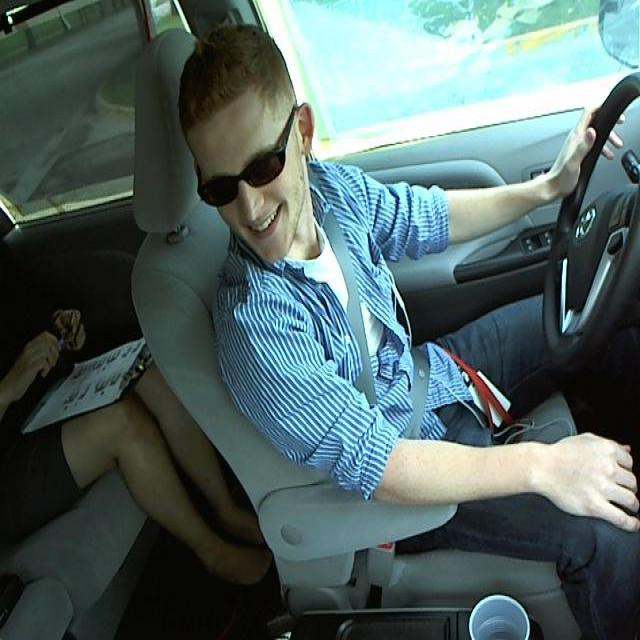seatbelt: (319, 211, 435, 448)
